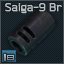Saiga-9 9x19 muzzle brake%5compensator: (0, 0, 64, 64)
